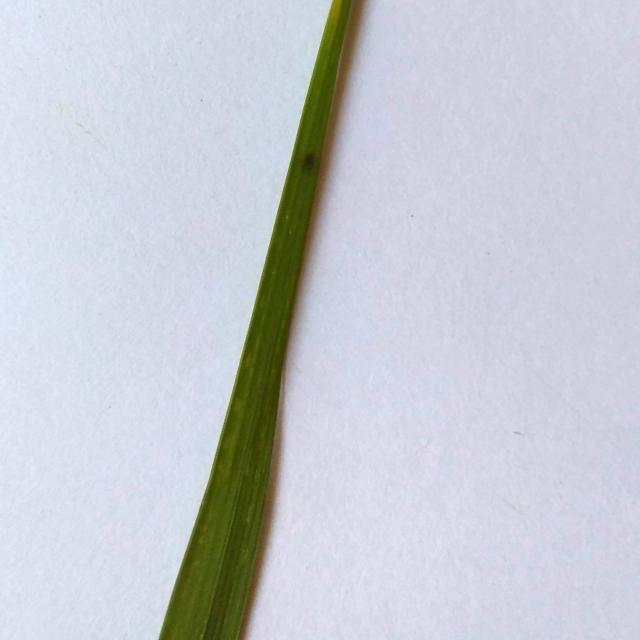brownspots: (295, 146, 322, 178)
